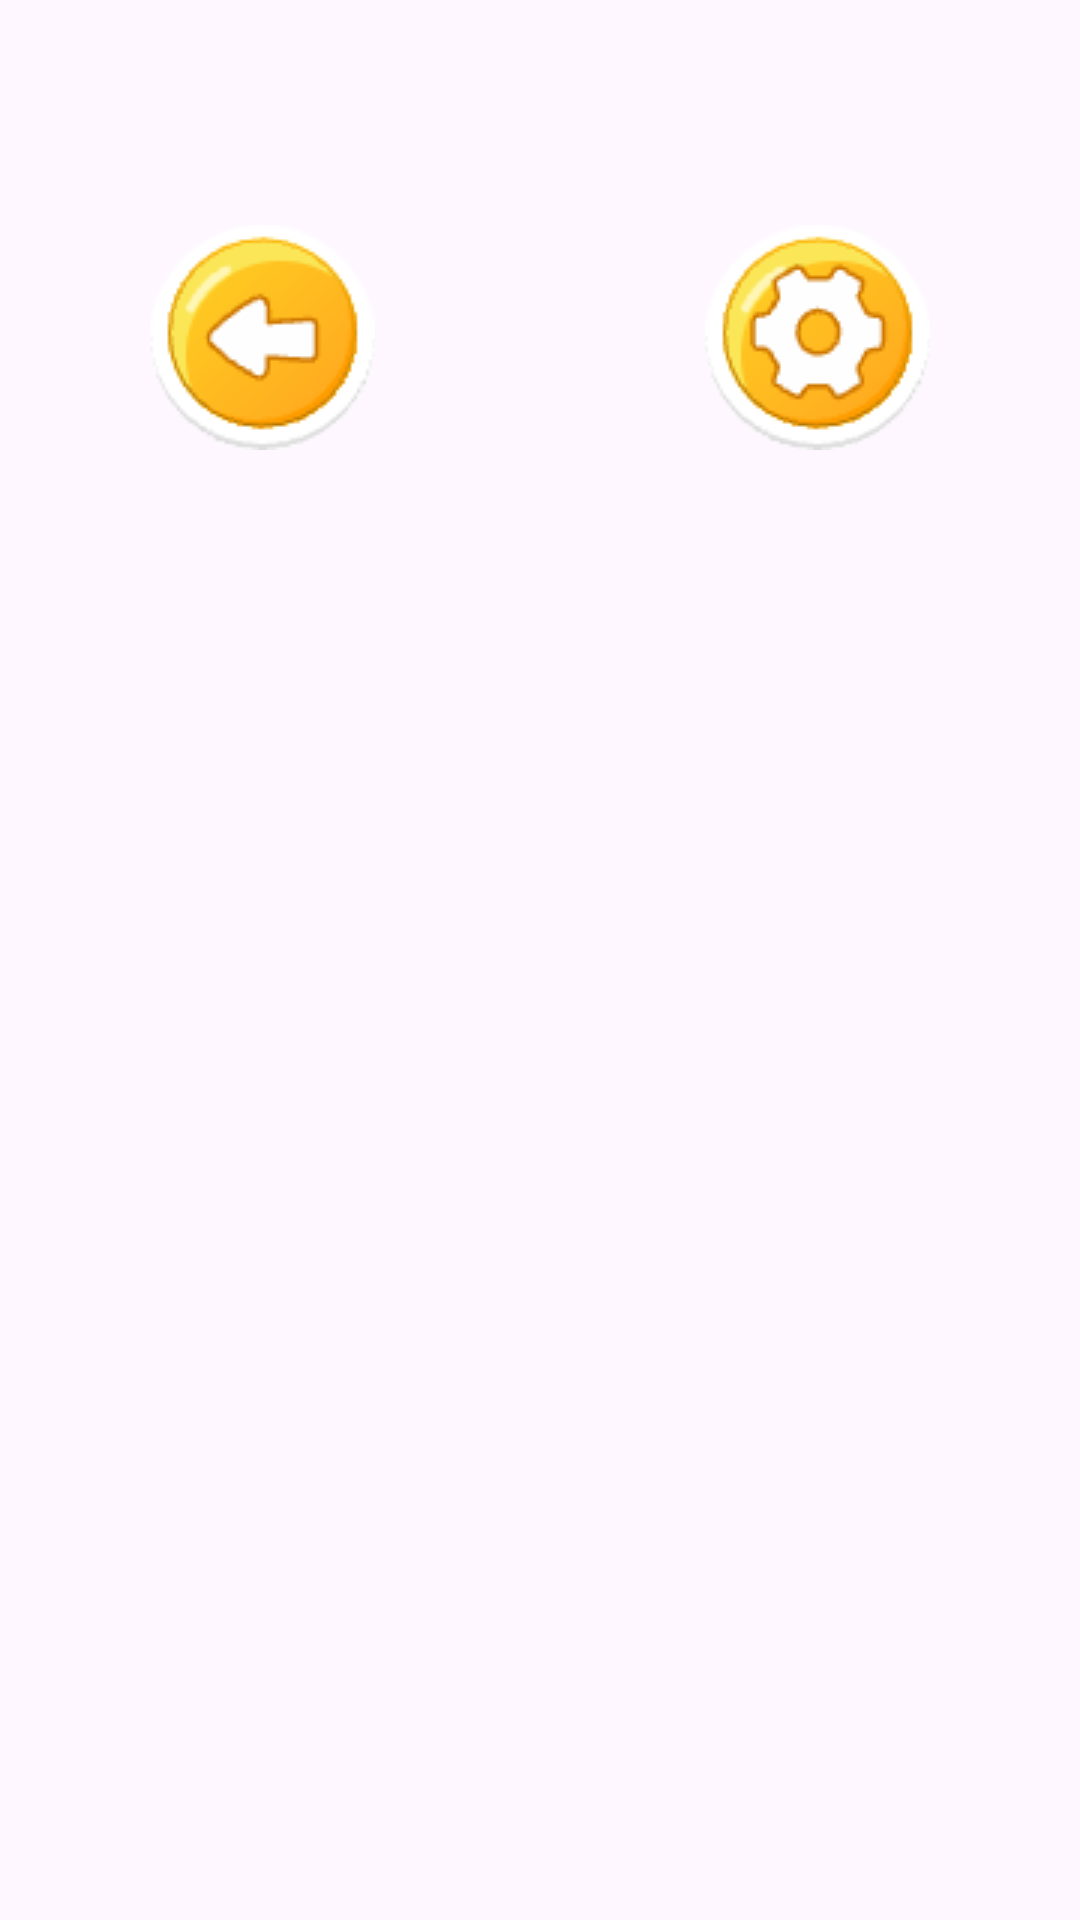

Icon bounding boxes for this 1080 × 1920 phone screenshot, format box(x1, y1, x2, y2):
back: box(160, 236, 368, 450)
settings: box(715, 236, 923, 450)
